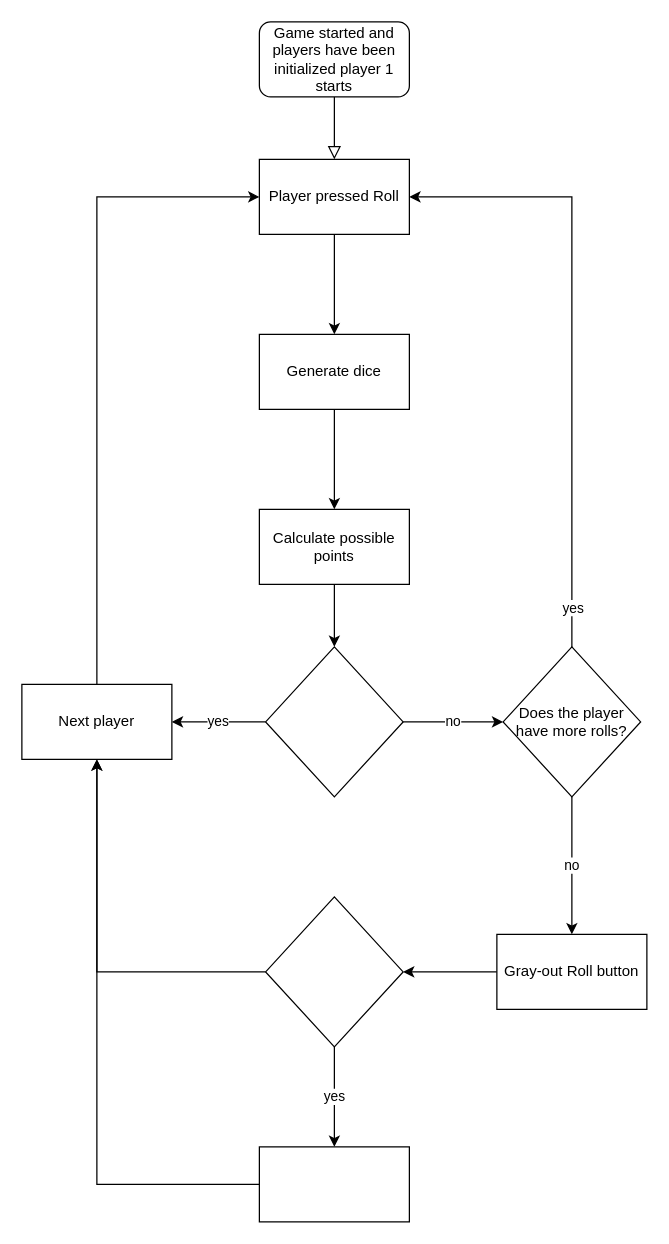
Some shapes in this 669 by 1244 pixel diagram are drawn without their labels. The centre of each missing label's shape, as x and y in pixels:
"Did the player choose for points?" goes at pixel 333 721.
"Is the player able to choose points?" goes at pixel 333 971.
"Player chooses points" goes at pixel 333 1184.
